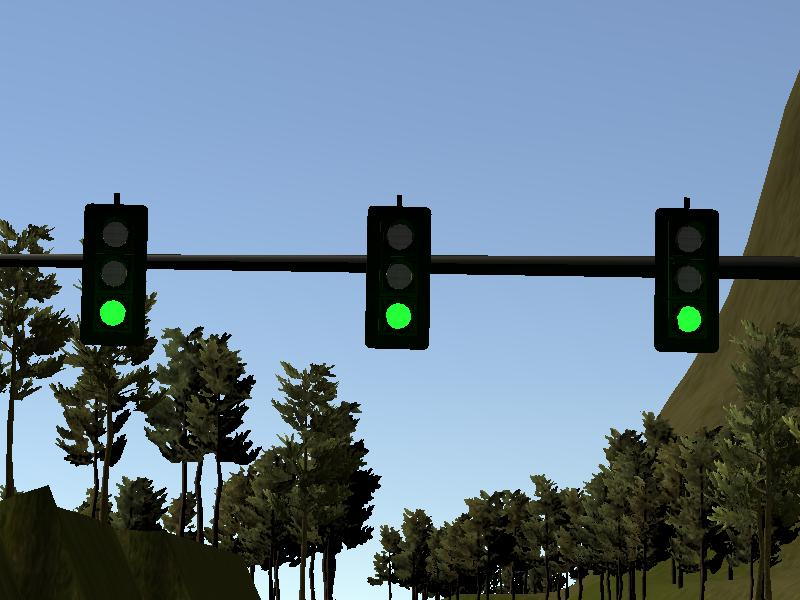not_red: (654, 208, 721, 352), (365, 205, 428, 349), (83, 203, 146, 345)
